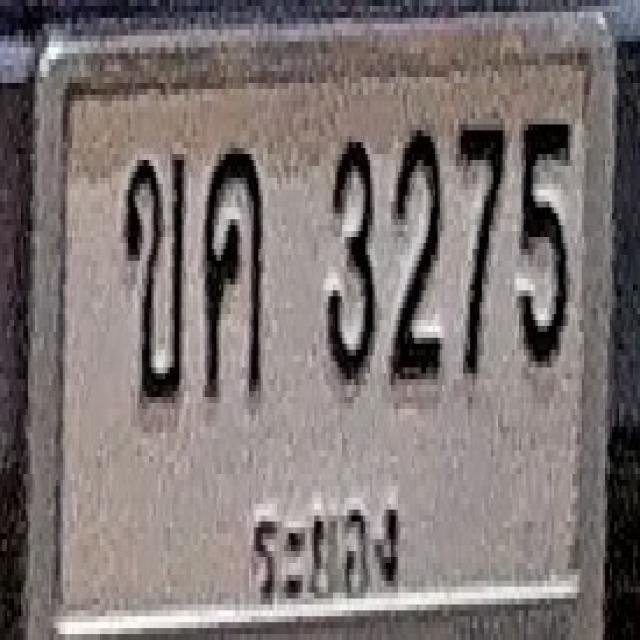-: (122, 151, 185, 406), (202, 142, 263, 397)
2: (390, 124, 441, 380)
3: (326, 136, 375, 385)
5: (519, 119, 570, 368)
7: (456, 116, 505, 376)
RYG: (245, 478, 410, 616)
